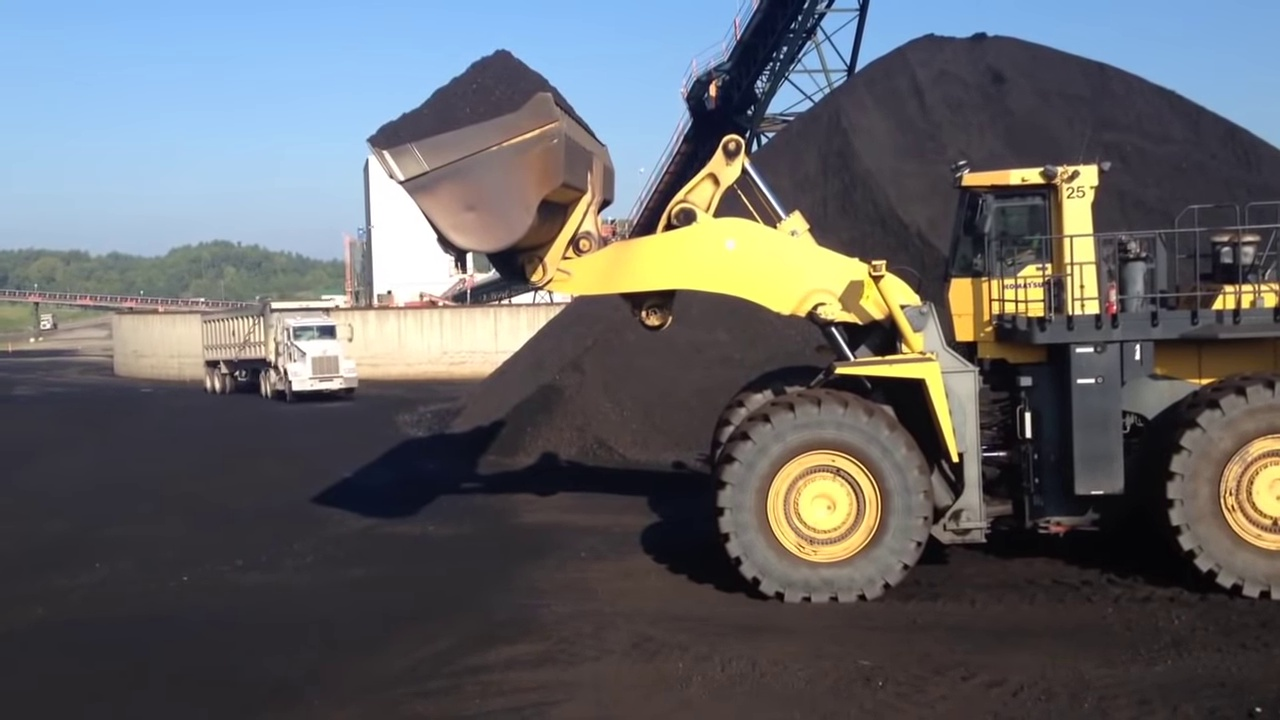truck: (189, 298, 359, 403)
wheel loader: (367, 91, 1280, 603)
